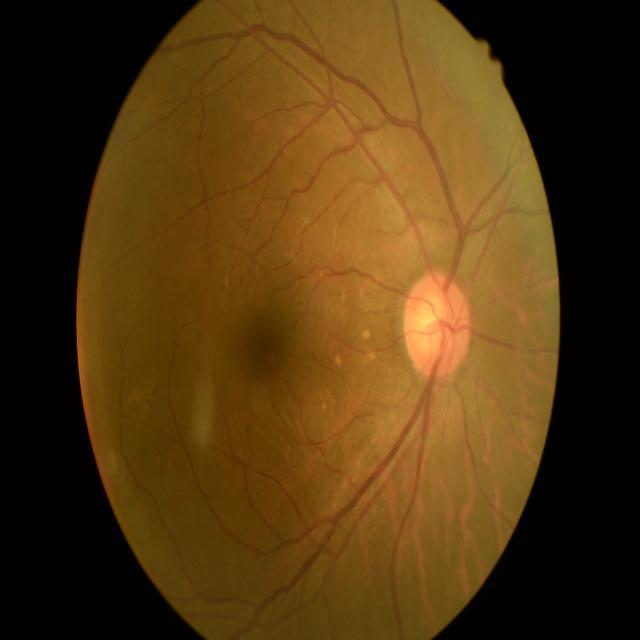cup: (416, 290, 448, 354)
disk: (404, 270, 472, 380)
